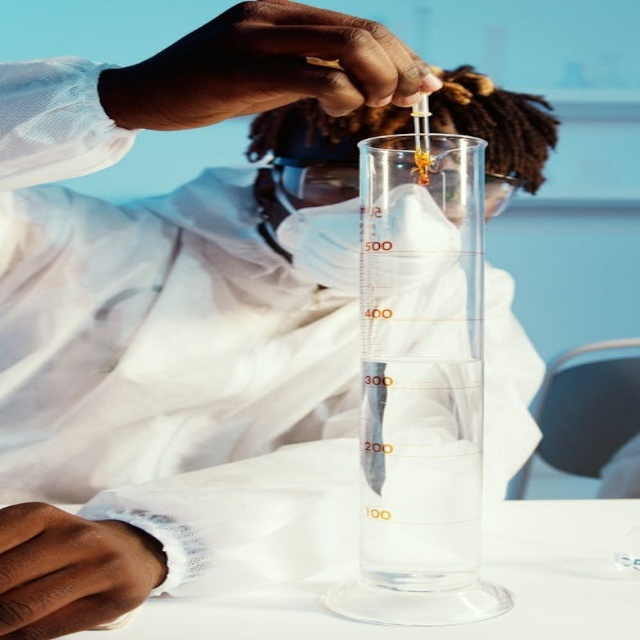Gafas: (270, 154, 525, 210)
Mascara: (270, 176, 464, 293)
Sin_guantes: (114, 0, 441, 131), (1, 502, 170, 640)
